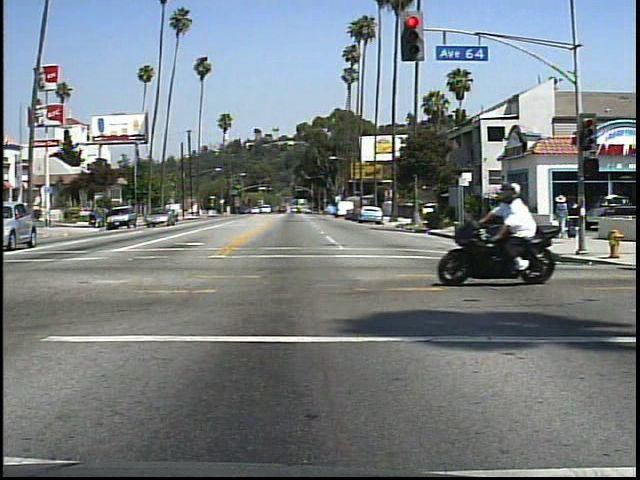person: (490, 176, 552, 281), (547, 191, 574, 244)
